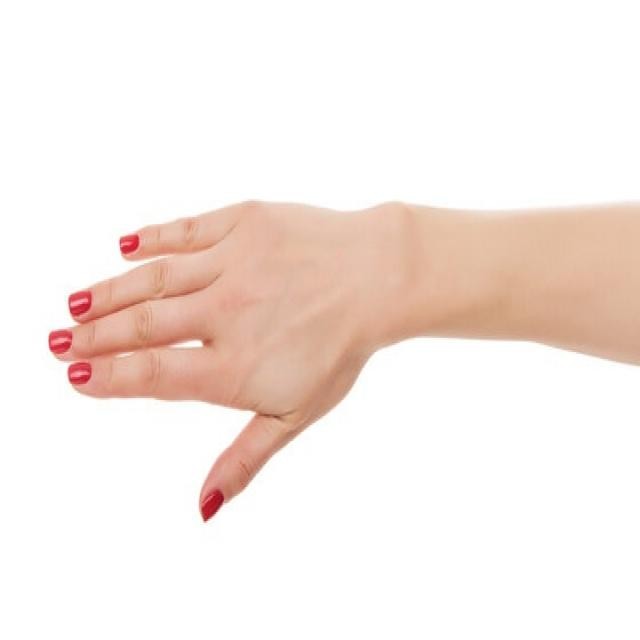bare_hand: (49, 198, 385, 524)
